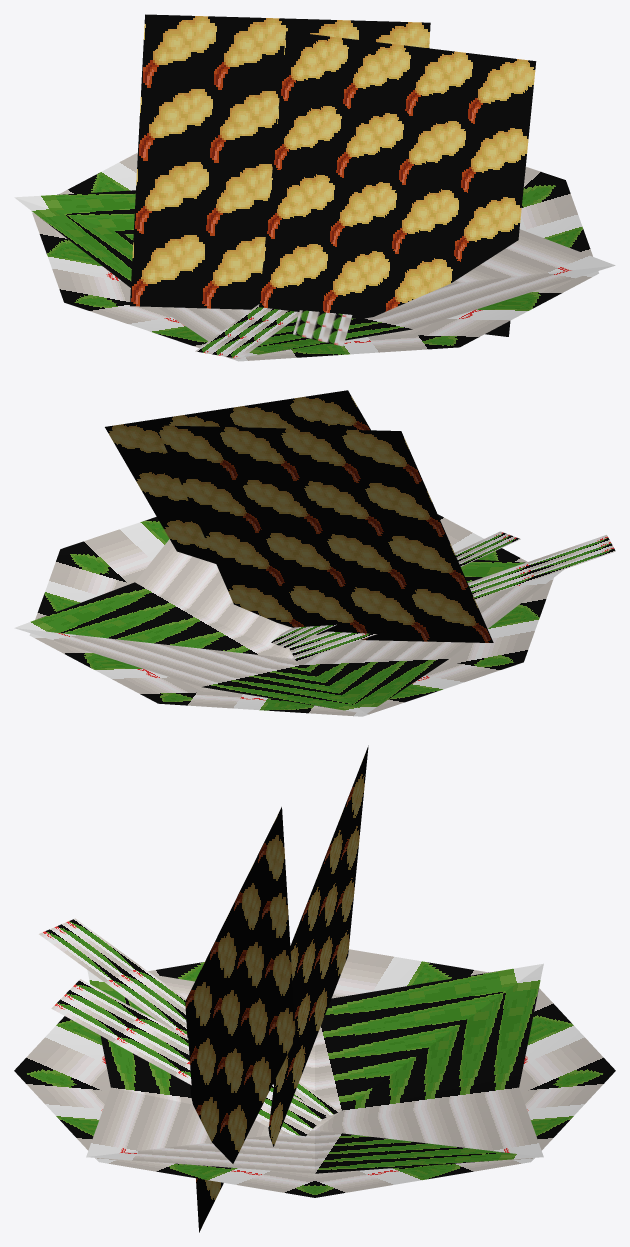
The model's file is 5548u_tnpr01.gltf.
The picture shows the model from 3 angles, top to bottom: view 1: azimuth 30°, elevation 25°; view 2: azimuth 150°, elevation 25°; view 3: azimuth 270°, elevation 25°; orthographic projection. The views are drawn at different scales.
Parts seen in each view (by area): view 1: 5548u_tnpr01; view 2: 5548u_tnpr01; view 3: 5548u_tnpr01.
Boxes of the visible parts, left/top/right/bottom form: 5548u_tnpr01: left=14, top=14, right=615, bottom=361; 5548u_tnpr01: left=14, top=390, right=615, bottom=716; 5548u_tnpr01: left=14, top=745, right=615, bottom=1232.
Bounding box in the file's own units: 0.8994 × 0.5684 × 0.8994.
Materials: 4 (4 with a texture image).
